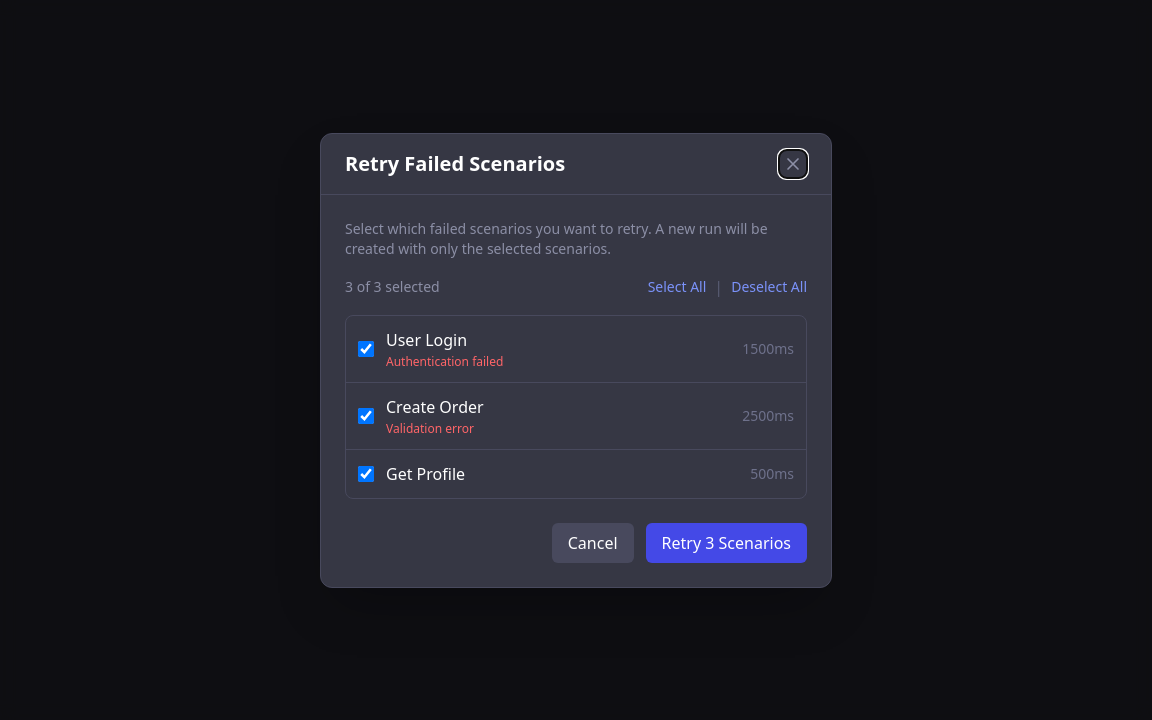
Scenario: RetryFailedDialog › deselects all when clicking Deselect All
Click the button "Deselect All".
click(769, 286)  # box top-left (731, 274), bottom-right (807, 298)
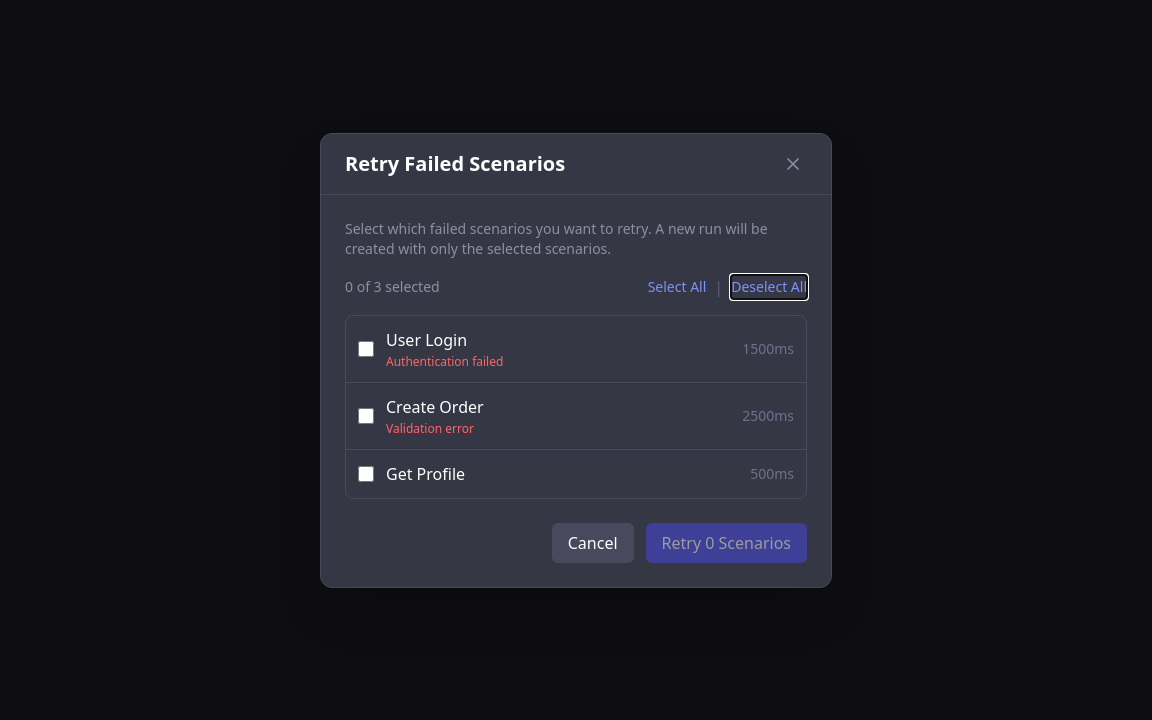
Now the checkbox labelled "User Login Authentication failed 1500ms" is not checked, box top-left (358, 340), bottom-right (374, 356)
Now the checkbox labelled "Create Order Validation error 2500ms" is not checked, box top-left (358, 408), bottom-right (374, 424)
Now the checkbox labelled "Get Profile 500ms" is not checked, box top-left (358, 466), bottom-right (374, 482)
